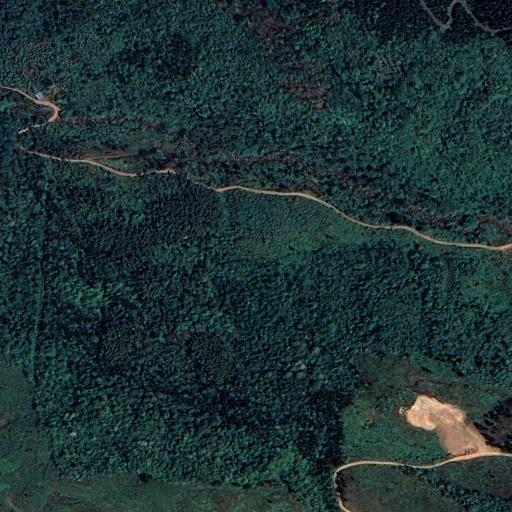landslide: (398, 393, 502, 458)
